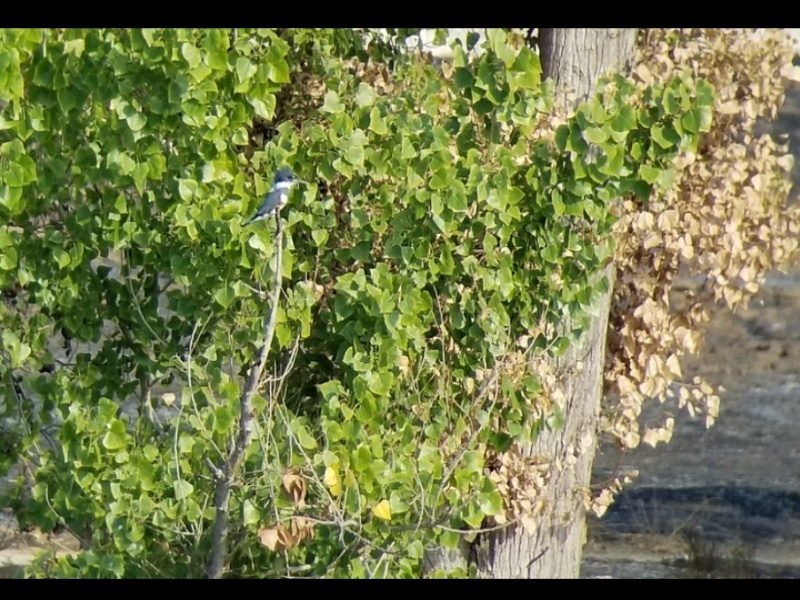kingfisher: (252, 163, 305, 235)
